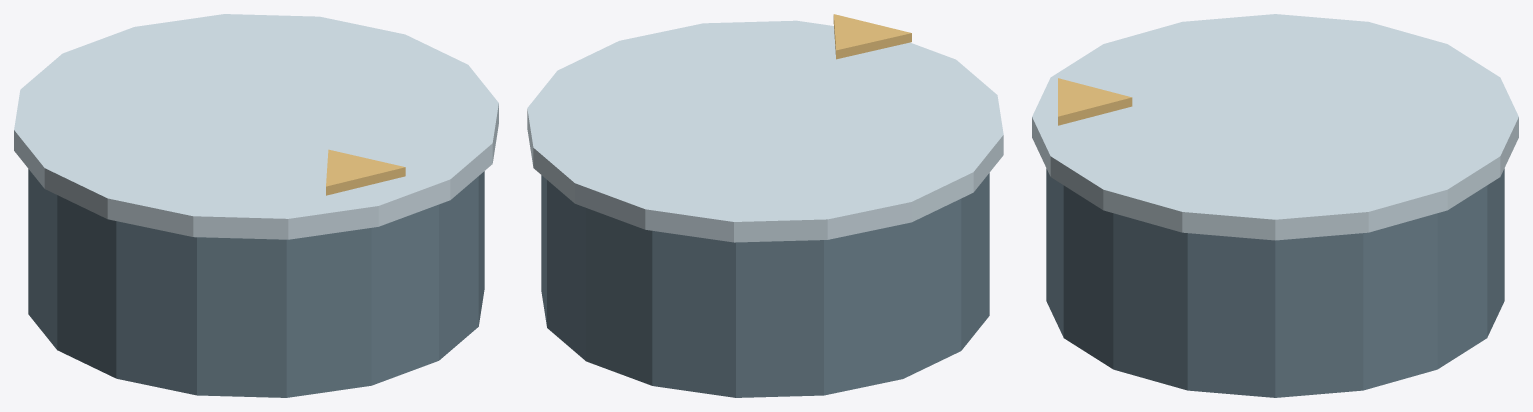
File: dial_plinth.glb
3 renders of one model, left to right at view 1: azimuth 30°, elevation 25°; view 2: azimuth 150°, elevation 25°; view 3: azimuth 270°, elevation 25°, orthographic.
Parts seen in each view (by area): view 1: SnowRim, StoneBase, FixedPointer; view 2: SnowRim, StoneBase, FixedPointer; view 3: SnowRim, StoneBase, FixedPointer.
Part boxes in pixels (left/top/right/bottom): SnowRim: left=14, top=14, right=498, bottom=239; StoneBase: left=28, top=169, right=484, bottom=397; FixedPointer: left=326, top=149, right=405, bottom=195; SnowRim: left=527, top=20, right=1003, bottom=242; StoneBase: left=541, top=173, right=989, bottom=397; FixedPointer: left=833, top=14, right=911, bottom=59; SnowRim: left=1032, top=14, right=1518, bottom=240; StoneBase: left=1046, top=168, right=1504, bottom=397; FixedPointer: left=1058, top=78, right=1132, bottom=125.
Bounding box in the file's own units: 1.7 × 0.785 × 1.7.
